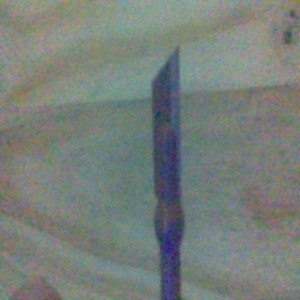cutter: (150, 42, 186, 300)
